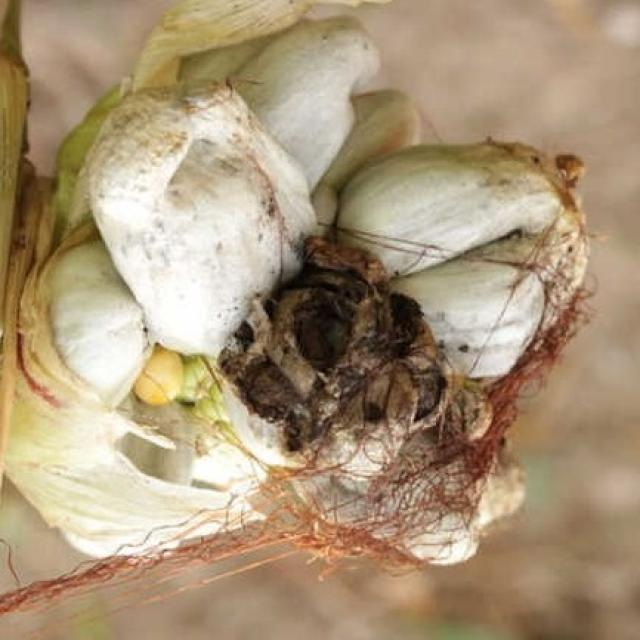Leaf_Scald: (15, 10, 600, 640)
